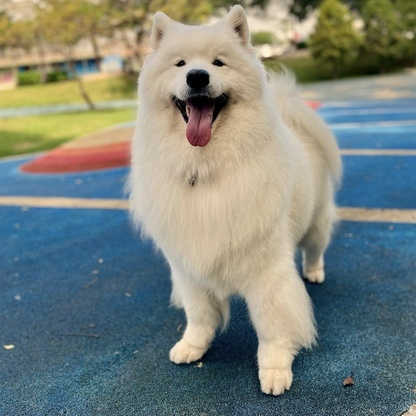samoyed: (120, 2, 347, 398)
